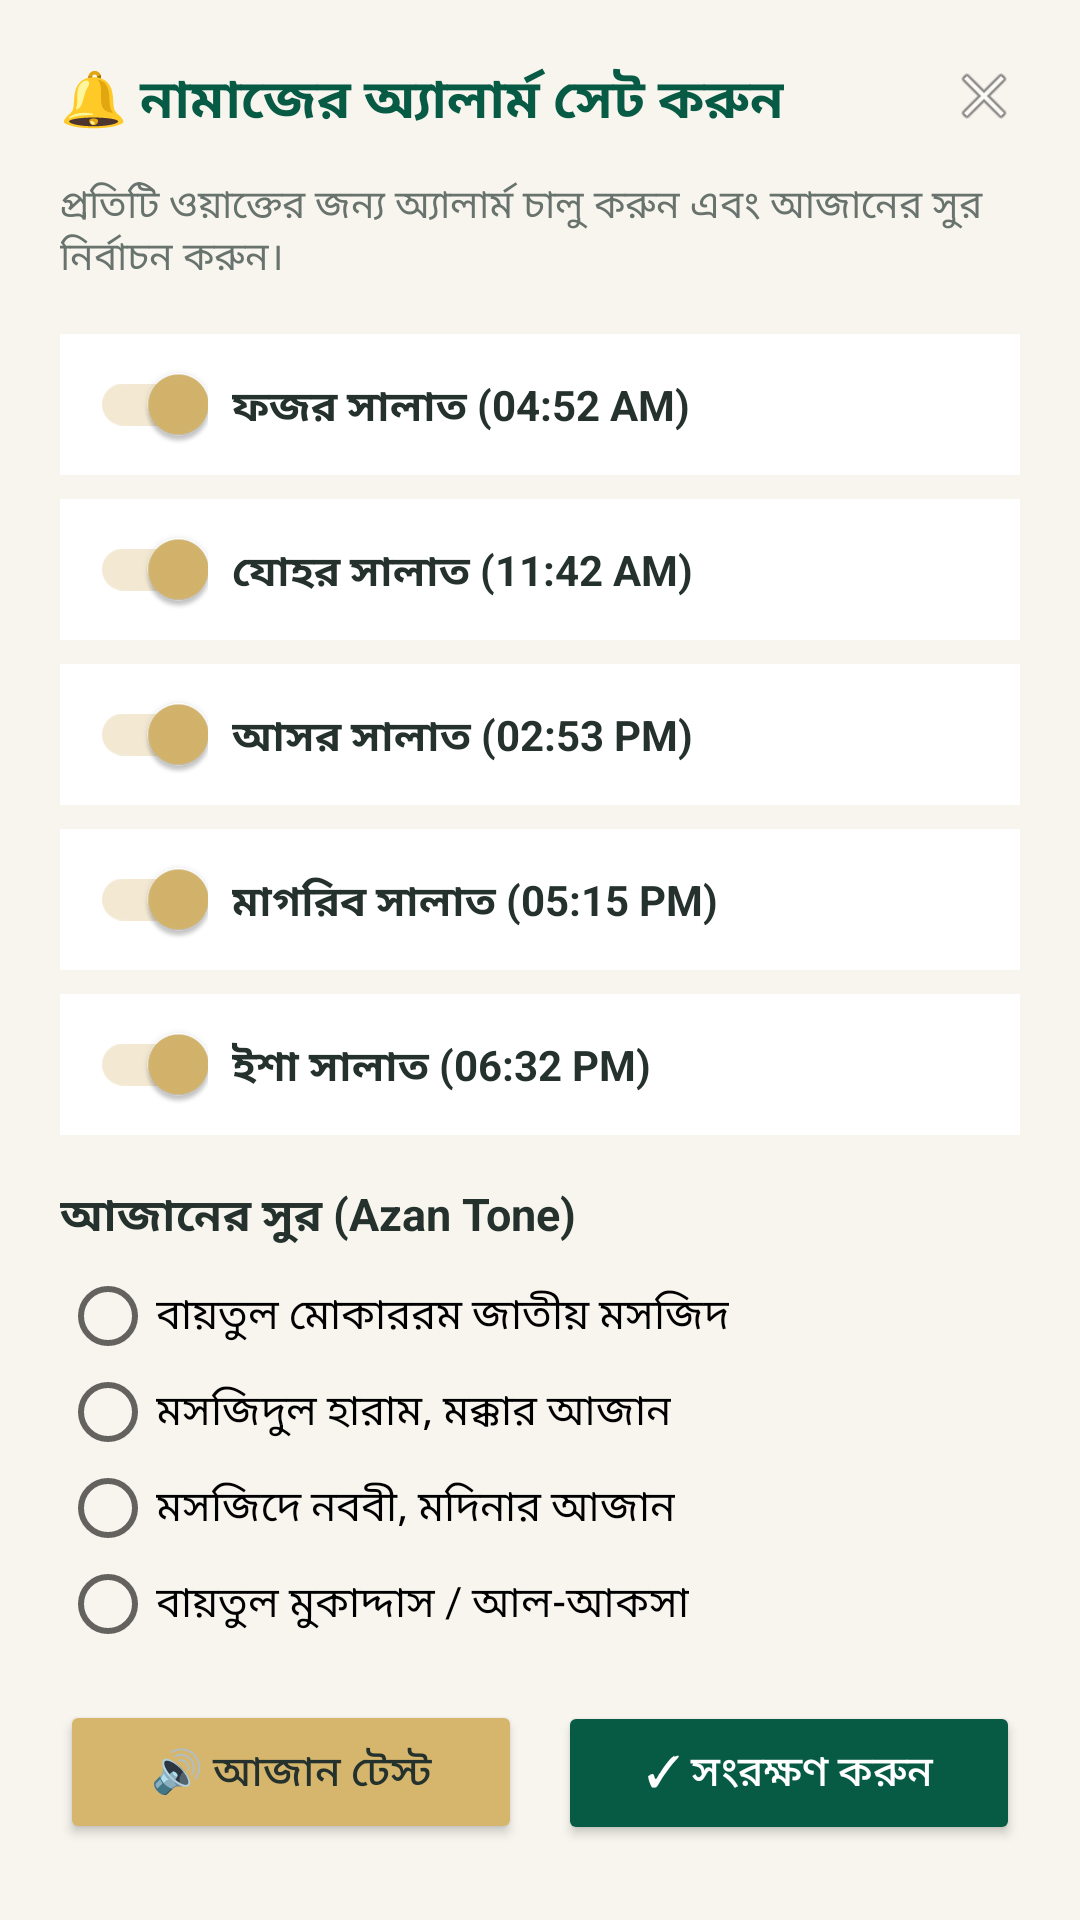

Point at icon controls on the screen. Image size 1080px×1920px, points as [x,y].
Close: [984,96]
